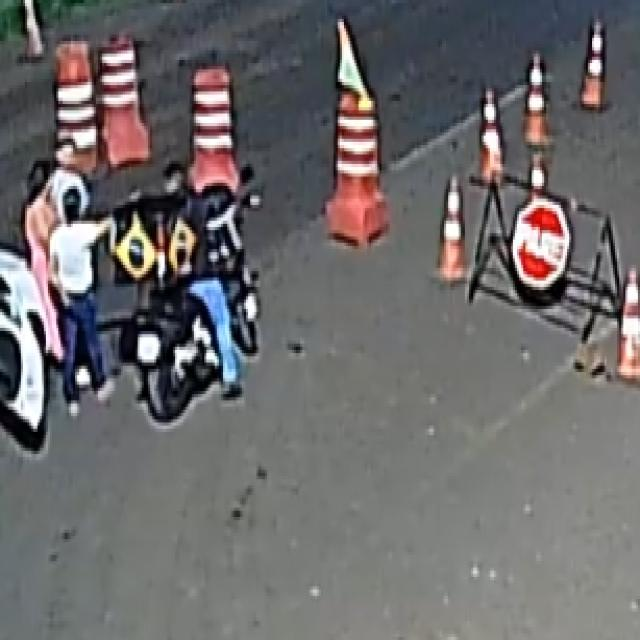big_cone: (96, 32, 151, 168), (187, 61, 239, 197), (336, 84, 379, 244), (53, 39, 100, 174)
small_cone: (436, 172, 467, 281), (579, 15, 609, 110), (615, 270, 640, 380), (521, 52, 550, 146), (478, 88, 505, 184)
stop_sign: (510, 194, 571, 295)
